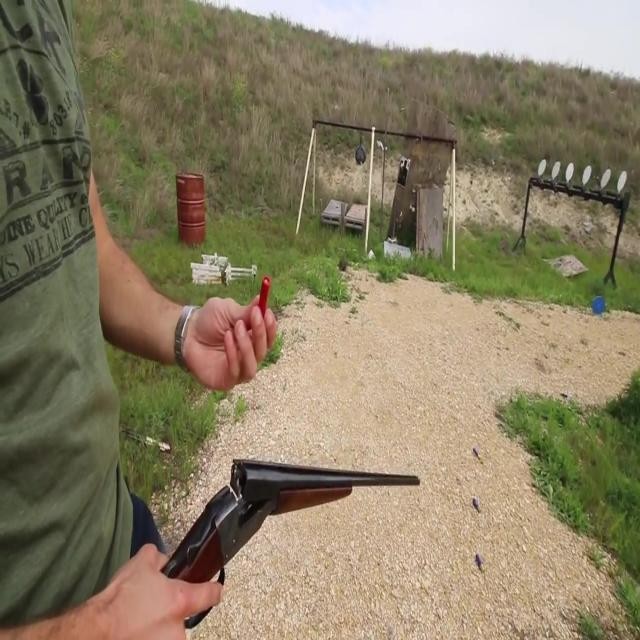Weapon: (134, 424, 429, 634), (240, 263, 298, 360)
